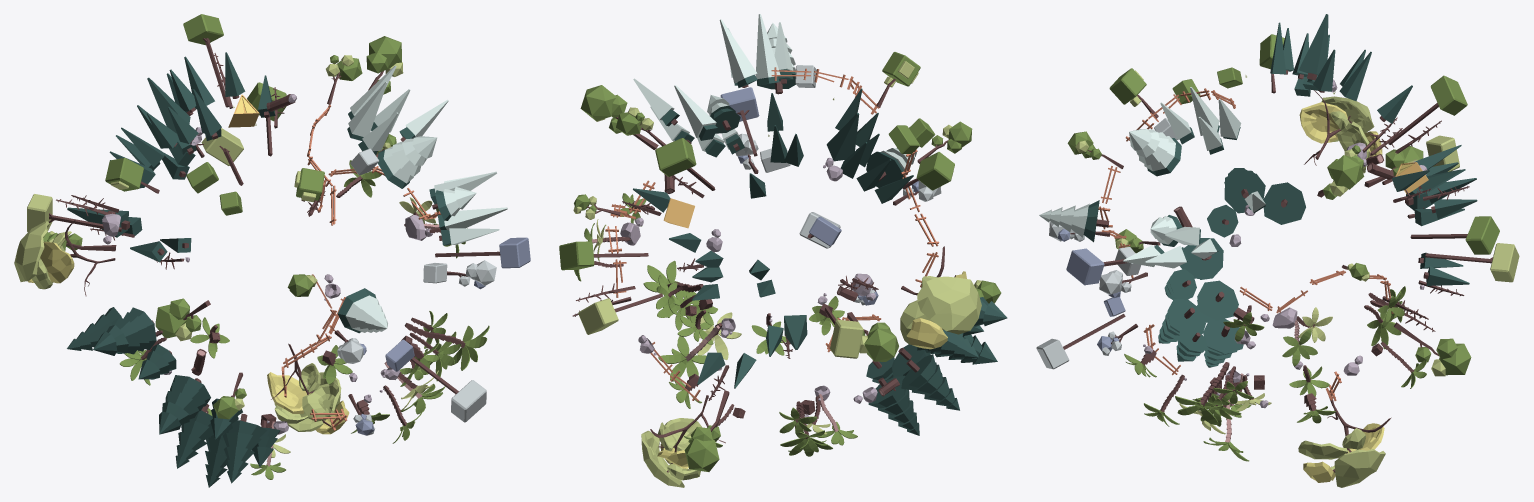
Rendered from PlanetAccessoryProps.fbx.
3 views of the same model, side by side, from view 1: azimuth 30°, elevation 25°; view 2: azimuth 150°, elevation 25°; view 3: azimuth 270°, elevation 25° (orthographic). The views are drawn at different scales.
Parts seen in each view (by area): view 1: GreenTreeCarla, GreenTreeCarla1, JOFirTree19, JOFirTree16, JOFirTree08, JOFirTree06, JOFirTree22, BallTree10, JOFirTree21, BallTree08, CubeSnowTallTree02, CubeTallTree05 (+34 smaller); view 2: GreenTreeCarla1, GreenTreeCarla, duo_palm1, JOFirTree21, BallTree10, JOFirTree23, BallTree08, CubeTallTree05, BallTree12, CubeTallTree06, CubeTallTree08, CubeTallTree07 (+36 smaller); view 3: GreenTreeCarla, GreenTreeCarla1, JOFirTree08, BallTree10, JOFirTree18, JOFirTree06, JOFirTree22, JOFirTree21, JOFirTree23, CubeTallTree07, duo_palm3, CubeTallTree05 (+34 smaller).
Boxes of the visible parts, x1=… form: GreenTreeCarla: x1=267, y1=343, x2=349, y2=434; GreenTreeCarla1: x1=14, y1=219, x2=115, y2=296; JOFirTree19: x1=93, y1=307, x2=156, y2=355; JOFirTree16: x1=159, y1=375, x2=210, y2=434; JOFirTree08: x1=377, y1=136, x2=437, y2=188; JOFirTree06: x1=337, y1=288, x2=387, y2=333; JOFirTree22: x1=222, y1=413, x2=267, y2=483; BallTree10: x1=155, y1=298, x2=210, y2=341; JOFirTree21: x1=175, y1=404, x2=213, y2=468; BallTree08: x1=366, y1=36, x2=403, y2=94; CubeSnowTallTree02: x1=411, y1=357, x2=486, y2=422; CubeTallTree05: x1=183, y1=14, x2=229, y2=107; GreenTreeCarla1: x1=900, y1=246, x2=981, y2=349; GreenTreeCarla: x1=641, y1=395, x2=725, y2=487; duo_palm1: x1=658, y1=312, x2=741, y2=381; JOFirTree21: x1=901, y1=354, x2=959, y2=410; BallTree10: x1=684, y1=390, x2=729, y2=471; JOFirTree23: x1=868, y1=376, x2=919, y2=435; BallTree08: x1=580, y1=85, x2=658, y2=149; CubeTallTree05: x1=655, y1=138, x2=715, y2=190; BallTree12: x1=847, y1=312, x2=898, y2=361; CubeTallTree06: x1=578, y1=293, x2=662, y2=334; CubeTallTree08: x1=824, y1=307, x2=863, y2=358; CubeTallTree07: x1=559, y1=241, x2=648, y2=270; GreenTreeCarla: x1=1298, y1=390, x2=1391, y2=487; GreenTreeCarla1: x1=1299, y1=90, x2=1382, y2=173; JOFirTree08: x1=1129, y1=129, x2=1181, y2=176; BallTree10: x1=1394, y1=322, x2=1471, y2=376; JOFirTree18: x1=1263, y1=182, x2=1305, y2=224; JOFirTree06: x1=1039, y1=200, x2=1109, y2=242; JOFirTree22: x1=1158, y1=299, x2=1205, y2=343; JOFirTree21: x1=1197, y1=280, x2=1238, y2=322; JOFirTree23: x1=1203, y1=318, x2=1243, y2=367; CubeTallTree07: x1=1410, y1=216, x2=1499, y2=254; duo_palm3: x1=1282, y1=307, x2=1332, y2=366; CubeTallTree05: x1=1387, y1=75, x2=1467, y2=144.
Size of the model in its own units: 4467 by 4233 by 4677.
